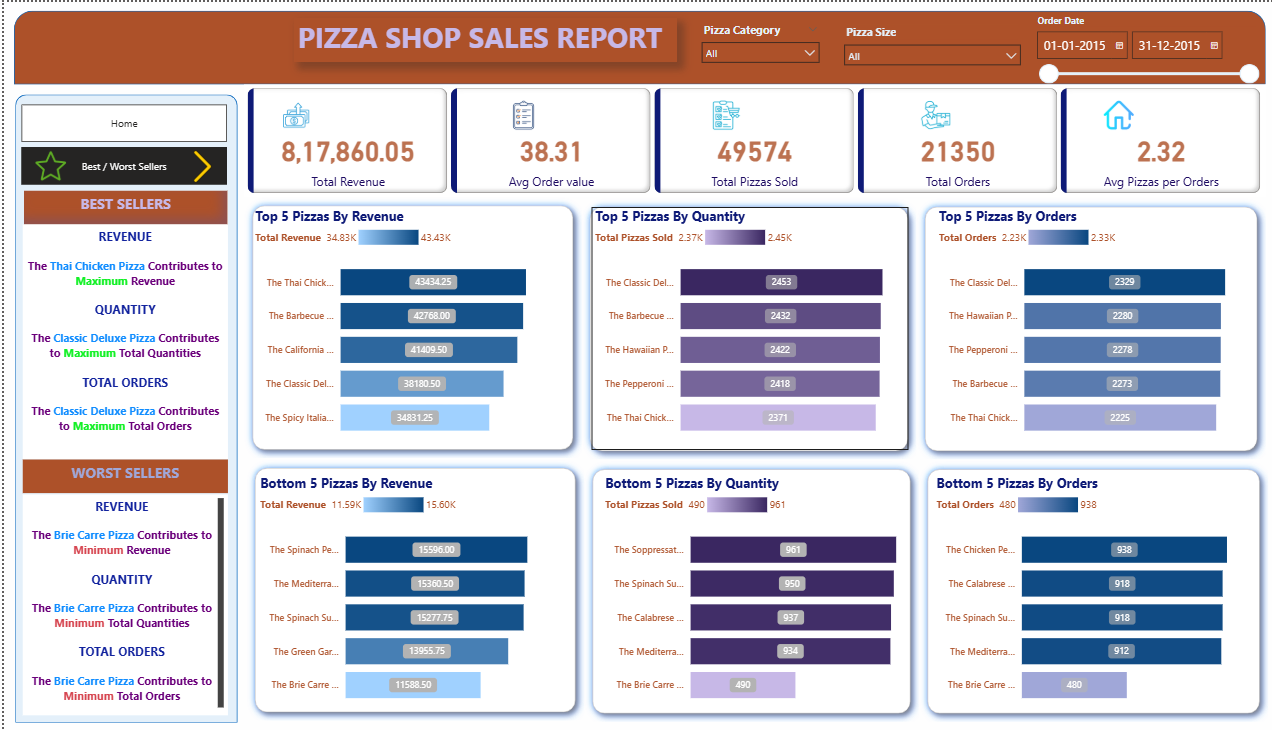

The dashboard page shown, as its layout file describes it:
{"tool":"powerbi","page":{"name":"Best / Worst Sellers","canvas":[1700,1020],"ordinal":1},"visuals":[{"type":"shape","box":[14.3,123.2,296.4,837.5],"z":0},{"type":"shape","box":[13.8,12.1,1669,98.3],"z":1000},{"type":"cardVisual","fields":{"Data":["Tbl_Pizza_Sales.Total Revenue","Tbl_Pizza_Sales.Avg Order value","Tbl_Pizza_Sales.Total Pizzas Sold","Tbl_Pizza_Sales.Total Orders","Tbl_Pizza_Sales.Avg Pizzas per Orders"]},"box":[320.7,110.3,1362.1,150],"z":2000},{"type":"shape","box":[320.7,260.3,450,348.3],"z":3000},{"type":"textbox","title":"PIZZA SHOP SALES REPORT","box":[386.2,21.5,510.8,58.5],"z":4000},{"type":"textbox","box":[26.8,251.8,271.4,44.6],"z":5000},{"type":"textbox","box":[25,296.4,273.2,312.5],"z":6000},{"type":"textbox","box":[25,610.7,273.2,44.6],"z":7000},{"type":"textbox","box":[25,657.1,273.2,294.6],"z":8000},{"type":"slicer","fields":{"Values":["Tbl_Pizza_Sales.pizza_category"]},"box":[920,21.5,176.9,70.8],"z":9000},{"type":"slicer","fields":{"Values":["Tbl_Pizza_Sales.order_date"]},"box":[1364.6,12.3,316.9,98.5],"z":10000},{"type":"shape","box":[770.7,262.1,446.6,348.3],"z":11000},{"type":"shape","box":[1217.2,262.1,465.5,348.3],"z":12000},{"type":"shape","box":[323.8,610,450,348.3],"z":13000},{"type":"shape","box":[773.8,611.7,446.6,348.3],"z":14000},{"type":"shape","box":[1220.3,611.7,465.5,348.3],"z":15000},{"type":"barChart","title":"Top 5 Pizzas By Revenue","fields":{"Category":["Tbl_Pizza_Sales.pizza_name"],"Y":["Tbl_Pizza_Sales.Total Revenue"]},"box":[329.3,274.1,424.1,322.4],"z":16000},{"type":"barChart","title":"Bottom 5 Pizzas By Revenue","fields":{"Category":["Tbl_Pizza_Sales.pizza_name"],"Y":["Tbl_Pizza_Sales.Total Revenue"]},"box":[336.2,629.3,424.1,322.4],"z":17000},{"type":"barChart","title":"Top 5 Pizzas By Quantity","fields":{"Category":["Tbl_Pizza_Sales.pizza_name"],"Y":["Tbl_Pizza_Sales.Total Pizzas Sold"]},"box":[782.8,274.1,424.1,322.4],"z":18000},{"type":"barChart","title":"Bottom 5 Pizzas By Quantity","fields":{"Category":["Tbl_Pizza_Sales.pizza_name"],"Y":["Tbl_Pizza_Sales.Total Pizzas Sold"]},"box":[796.6,629.3,424.1,322.4],"z":19000},{"type":"barChart","title":"Top 5 Pizzas By Orders","fields":{"Category":["Tbl_Pizza_Sales.pizza_name"],"Y":["Tbl_Pizza_Sales.Total Orders"]},"box":[1241.4,274.1,424.1,322.4],"z":20000},{"type":"barChart","title":"Bottom 5 Pizzas By Orders","fields":{"Category":["Tbl_Pizza_Sales.pizza_name"],"Y":["Tbl_Pizza_Sales.Total Orders"]},"box":[1237.9,629.3,424.1,322.4],"z":21000},{"type":"pageNavigator","box":[24.1,193.1,274.1,50],"z":22000},{"type":"pageNavigator","box":[24.1,136.2,274.1,50],"z":23000},{"type":"image","box":[229.2,192.7,69.8,52.1],"z":24000},{"type":"image","box":[27.7,193.8,67.7,50.8],"z":26000},{"type":"slicer","fields":{"Values":["Tbl_Pizza_Sales.pizza_size"]},"box":[1109.2,24.6,255.4,72.3],"z":27000}]}

Visuals, with their boxes on the page's 1700x1020 design canvas (x1, y1, x2, y2). These are canvas units, not pixel positions in the 1272x730 screenshot, which may show the page scaled, cropped or inside an application window:
shape: l=14, t=123, r=311, b=961
shape: l=14, t=12, r=1683, b=110
cardVisual - Tbl_Pizza_Sales.Total Revenue x Tbl_Pizza_Sales.Avg Order value: l=321, t=110, r=1683, b=260
shape: l=321, t=260, r=771, b=609
"PIZZA SHOP SALES REPORT" textbox: l=386, t=22, r=897, b=80
textbox: l=27, t=252, r=298, b=296
textbox: l=25, t=296, r=298, b=609
textbox: l=25, t=611, r=298, b=655
textbox: l=25, t=657, r=298, b=952
slicer - Tbl_Pizza_Sales.pizza_category: l=920, t=22, r=1097, b=92
slicer - Tbl_Pizza_Sales.order_date: l=1365, t=12, r=1682, b=111
shape: l=771, t=262, r=1217, b=610
shape: l=1217, t=262, r=1683, b=610
shape: l=324, t=610, r=774, b=958
shape: l=774, t=612, r=1220, b=960
shape: l=1220, t=612, r=1686, b=960
"Top 5 Pizzas By Revenue" barChart: l=329, t=274, r=753, b=596
"Bottom 5 Pizzas By Revenue" barChart: l=336, t=629, r=760, b=952
"Top 5 Pizzas By Quantity" barChart: l=783, t=274, r=1207, b=596
"Bottom 5 Pizzas By Quantity" barChart: l=797, t=629, r=1221, b=952
"Top 5 Pizzas By Orders" barChart: l=1241, t=274, r=1666, b=596
"Bottom 5 Pizzas By Orders" barChart: l=1238, t=629, r=1662, b=952
pageNavigator: l=24, t=193, r=298, b=243
pageNavigator: l=24, t=136, r=298, b=186
image: l=229, t=193, r=299, b=245
image: l=28, t=194, r=95, b=245
slicer - Tbl_Pizza_Sales.pizza_size: l=1109, t=25, r=1365, b=97
